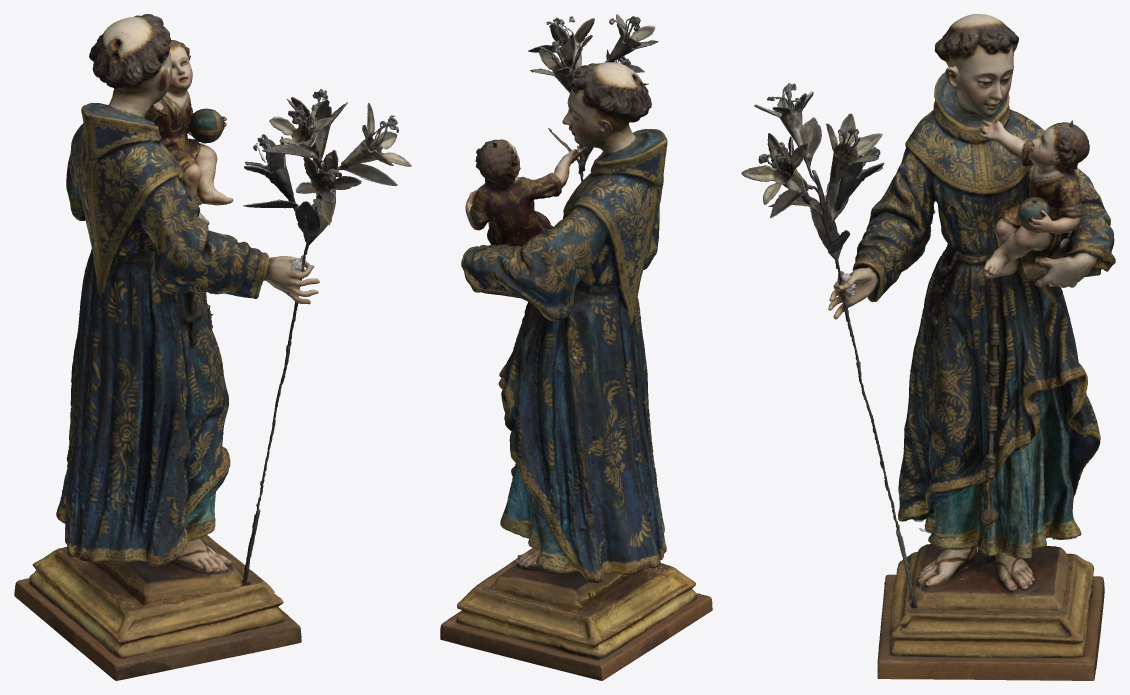
The model's file is figure_of_saint_anthony_of_padua.glb.
3 renders of one model, left to right at view 1: azimuth 30°, elevation 25°; view 2: azimuth 150°, elevation 25°; view 3: azimuth 270°, elevation 25°, orthographic. The views are drawn at different scales.
Visible parts, largest first — view 1: Object_4, Object_2, Object_3; view 2: Object_4, Object_3, Object_2; view 3: Object_2, Object_3, Object_4.
Part boxes in pixels (x1,y1,x2,y2): Object_4: (14,48,288,680); Object_2: (66,14,411,646); Object_3: (66,40,297,589); Object_4: (440,145,712,680); Object_3: (461,44,667,646); Object_2: (498,14,667,550); Object_2: (741,14,1095,679); Object_3: (802,75,1115,658); Object_4: (857,132,1104,680).
Size of the model in its own units: 0.1417 by 0.3442 by 0.1932.
1 material, 1 textured.
